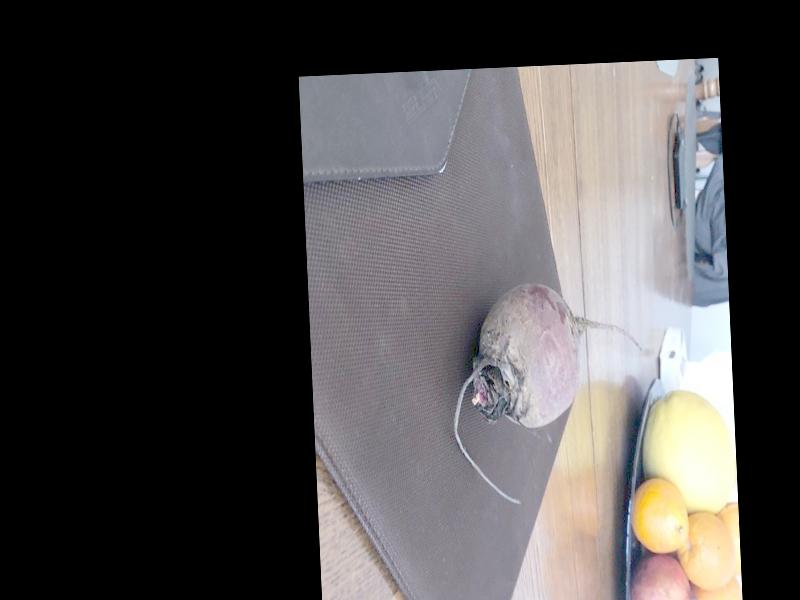Beet: (447, 278, 649, 507)
